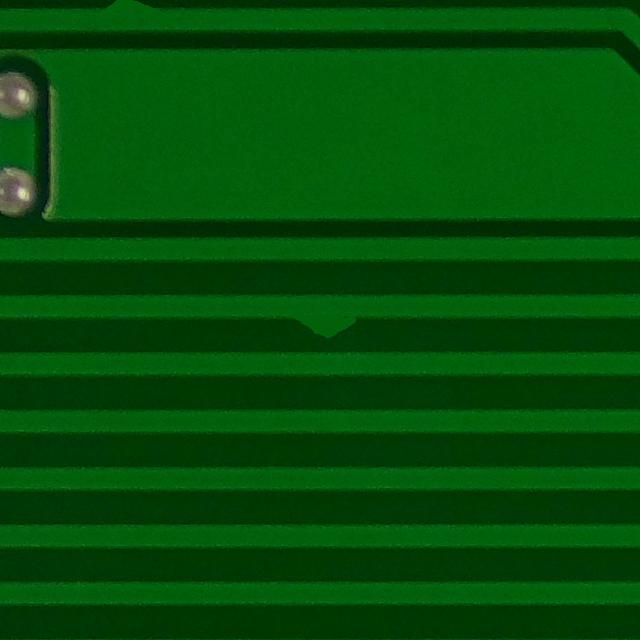spur: (267, 288, 373, 353)
